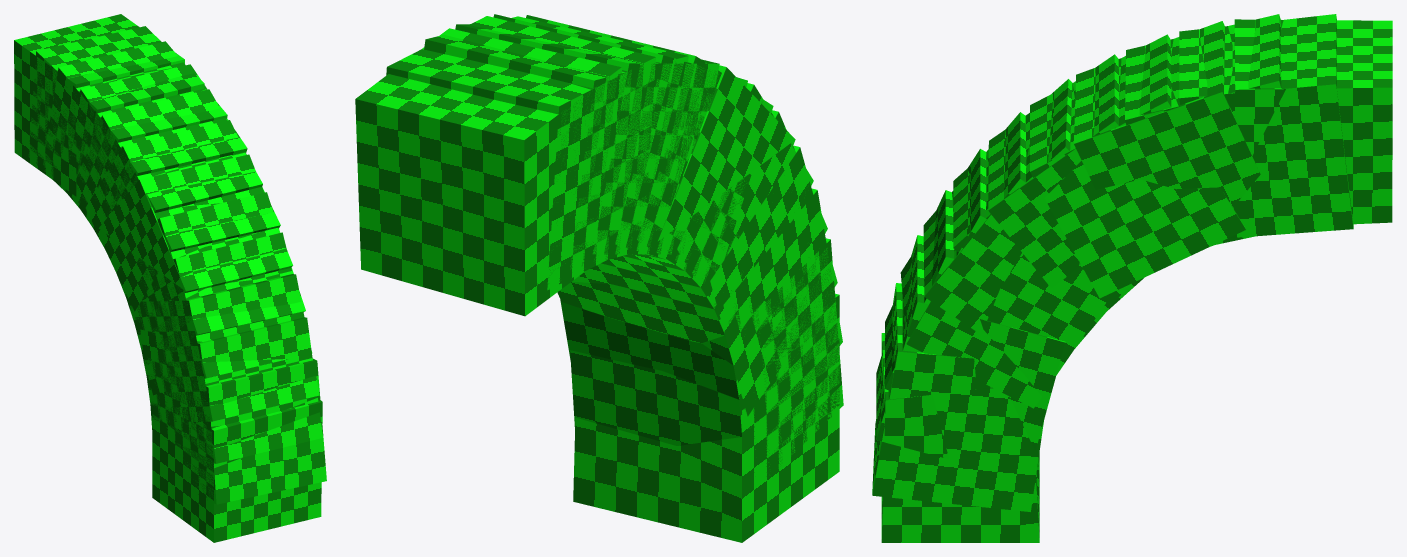
File: SnolfCurve.fbx
The picture shows the model from 3 angles, left to right: view 1: azimuth 30°, elevation 25°; view 2: azimuth 150°, elevation 25°; view 3: azimuth 270°, elevation 25°; orthographic projection. The views are drawn at different scales.
Visible parts, largest first — view 1: Cube; view 2: Cube; view 3: Cube.
Boxes of the visible parts, <box> form: Cube: <box>14,14,326,542</box>; Cube: <box>355,14,843,542</box>; Cube: <box>872,14,1392,542</box>.
Bounding box in the file's own units: 209 × 645 × 659.
Materials: 1 (1 with a texture image).
